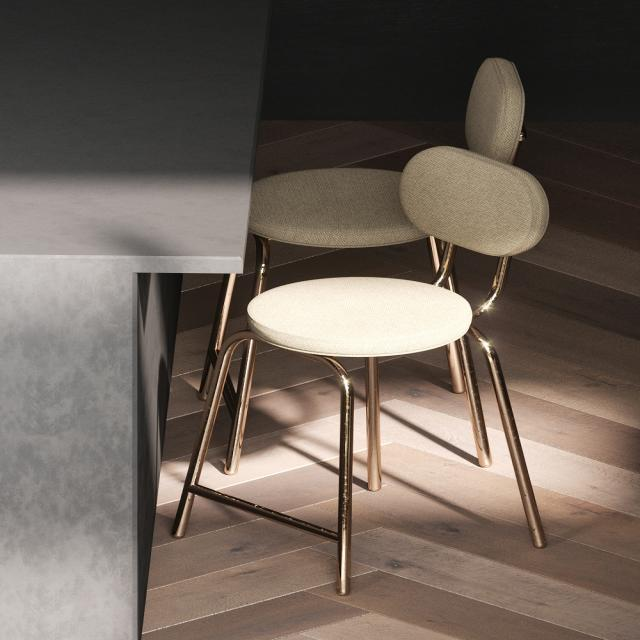chair: (170, 141, 555, 597), (190, 54, 530, 402)
